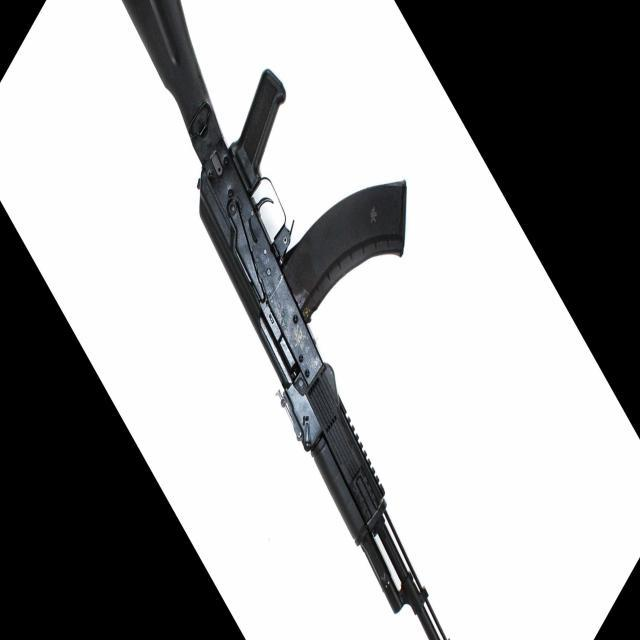weapon: (122, 0, 448, 640)
